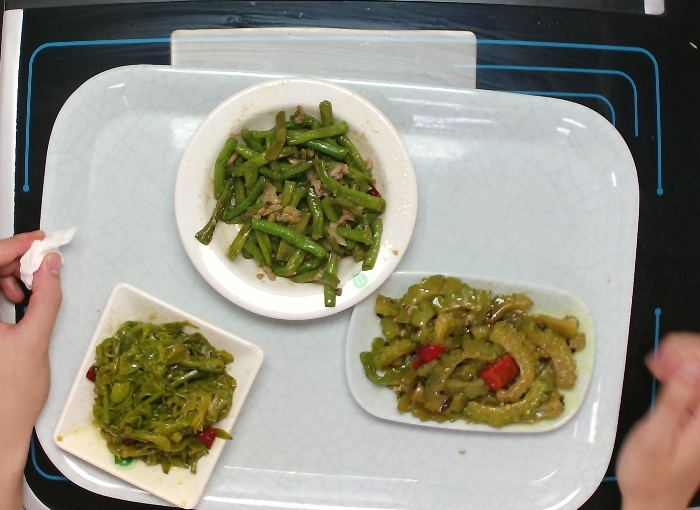WCQzf-Bai_Se_Si_Fang_Die: (48, 279, 266, 509)
WCQzf-Kuan_Bian_Yuan_Die: (172, 75, 421, 323)
WCQzf-Tuo_Yuan_Pan: (341, 267, 597, 436)
